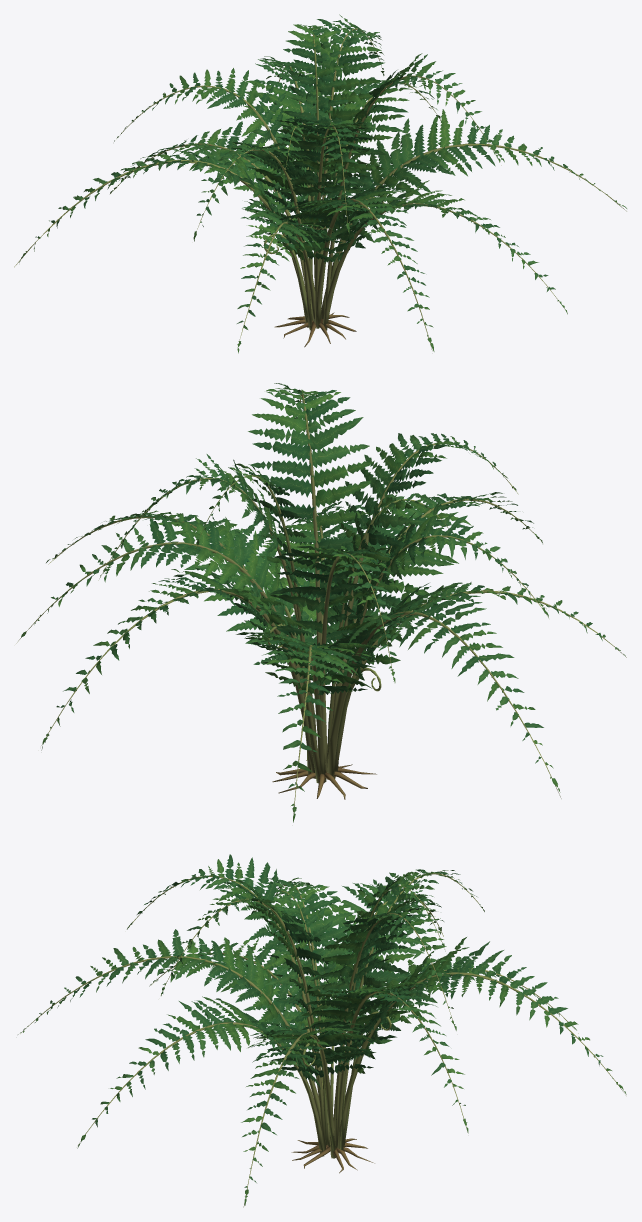
Rendered from fern.glb.
3 views of the same model, one above another, from view 1: azimuth 30°, elevation 25°; view 2: azimuth 150°, elevation 25°; view 3: azimuth 270°, elevation 25° (orthographic). The views are drawn at different scales.
Parts seen in each view (by area): view 1: Pinnae, Rachises and fiddleheads; view 2: Pinnae, Rachises and fiddleheads; view 3: Pinnae, Rachises and fiddleheads.
Boxes of the visible parts, box(x1,y1,x2,y2) form: Pinnae: box(19, 14, 626, 353); Rachises and fiddleheads: box(14, 27, 626, 350); Pinnae: box(21, 383, 625, 822); Rachises and fiddleheads: box(16, 391, 626, 814); Pinnae: box(18, 854, 626, 1205); Rachises and fiddleheads: box(20, 873, 623, 1207).
Size of the model in its own units: 1.83 by 0.9361 by 1.76.
2 materials, 1 textured.
